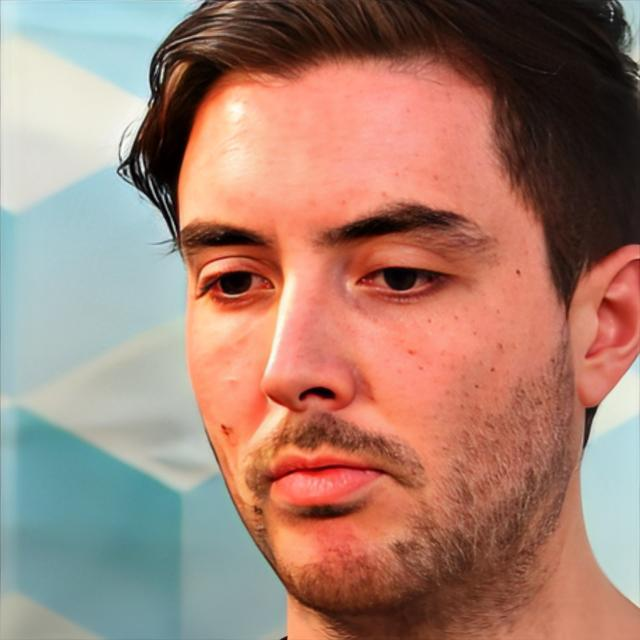sad: (175, 61, 570, 618)
